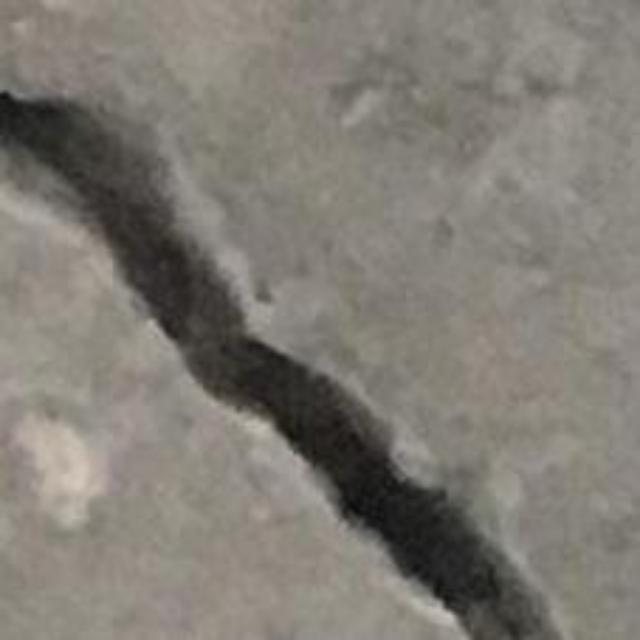crack: (0, 91, 563, 639)
